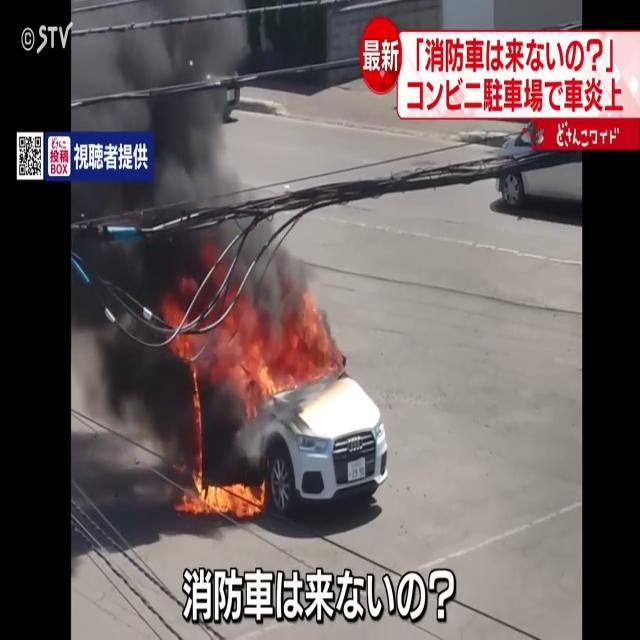Fire: (226, 291, 342, 409), (185, 469, 267, 522)
Smoke: (71, 1, 327, 457)
